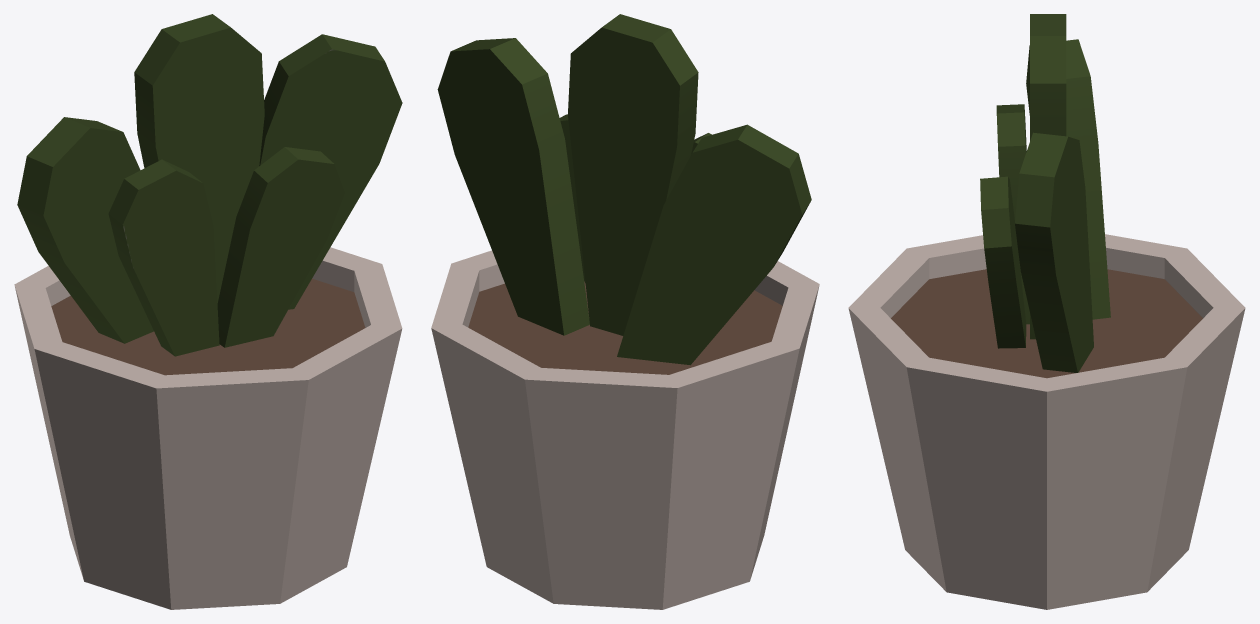
Rendered from plante pot.FBX.
3 views of the same model, side by side, from view 1: azimuth 30°, elevation 25°; view 2: azimuth 150°, elevation 25°; view 3: azimuth 270°, elevation 25° (orthographic).
Visible parts, largest first — view 1: Object; view 2: Object; view 3: Object.
Part boxes in pixels (x1,y1,x2,y2): Object: (14, 14, 402, 609); Object: (431, 14, 819, 609); Object: (848, 14, 1245, 609).
Bounding box in the file's own units: 35.05 × 47.72 × 32.98.
Materials: 1 (1 with a texture image).
